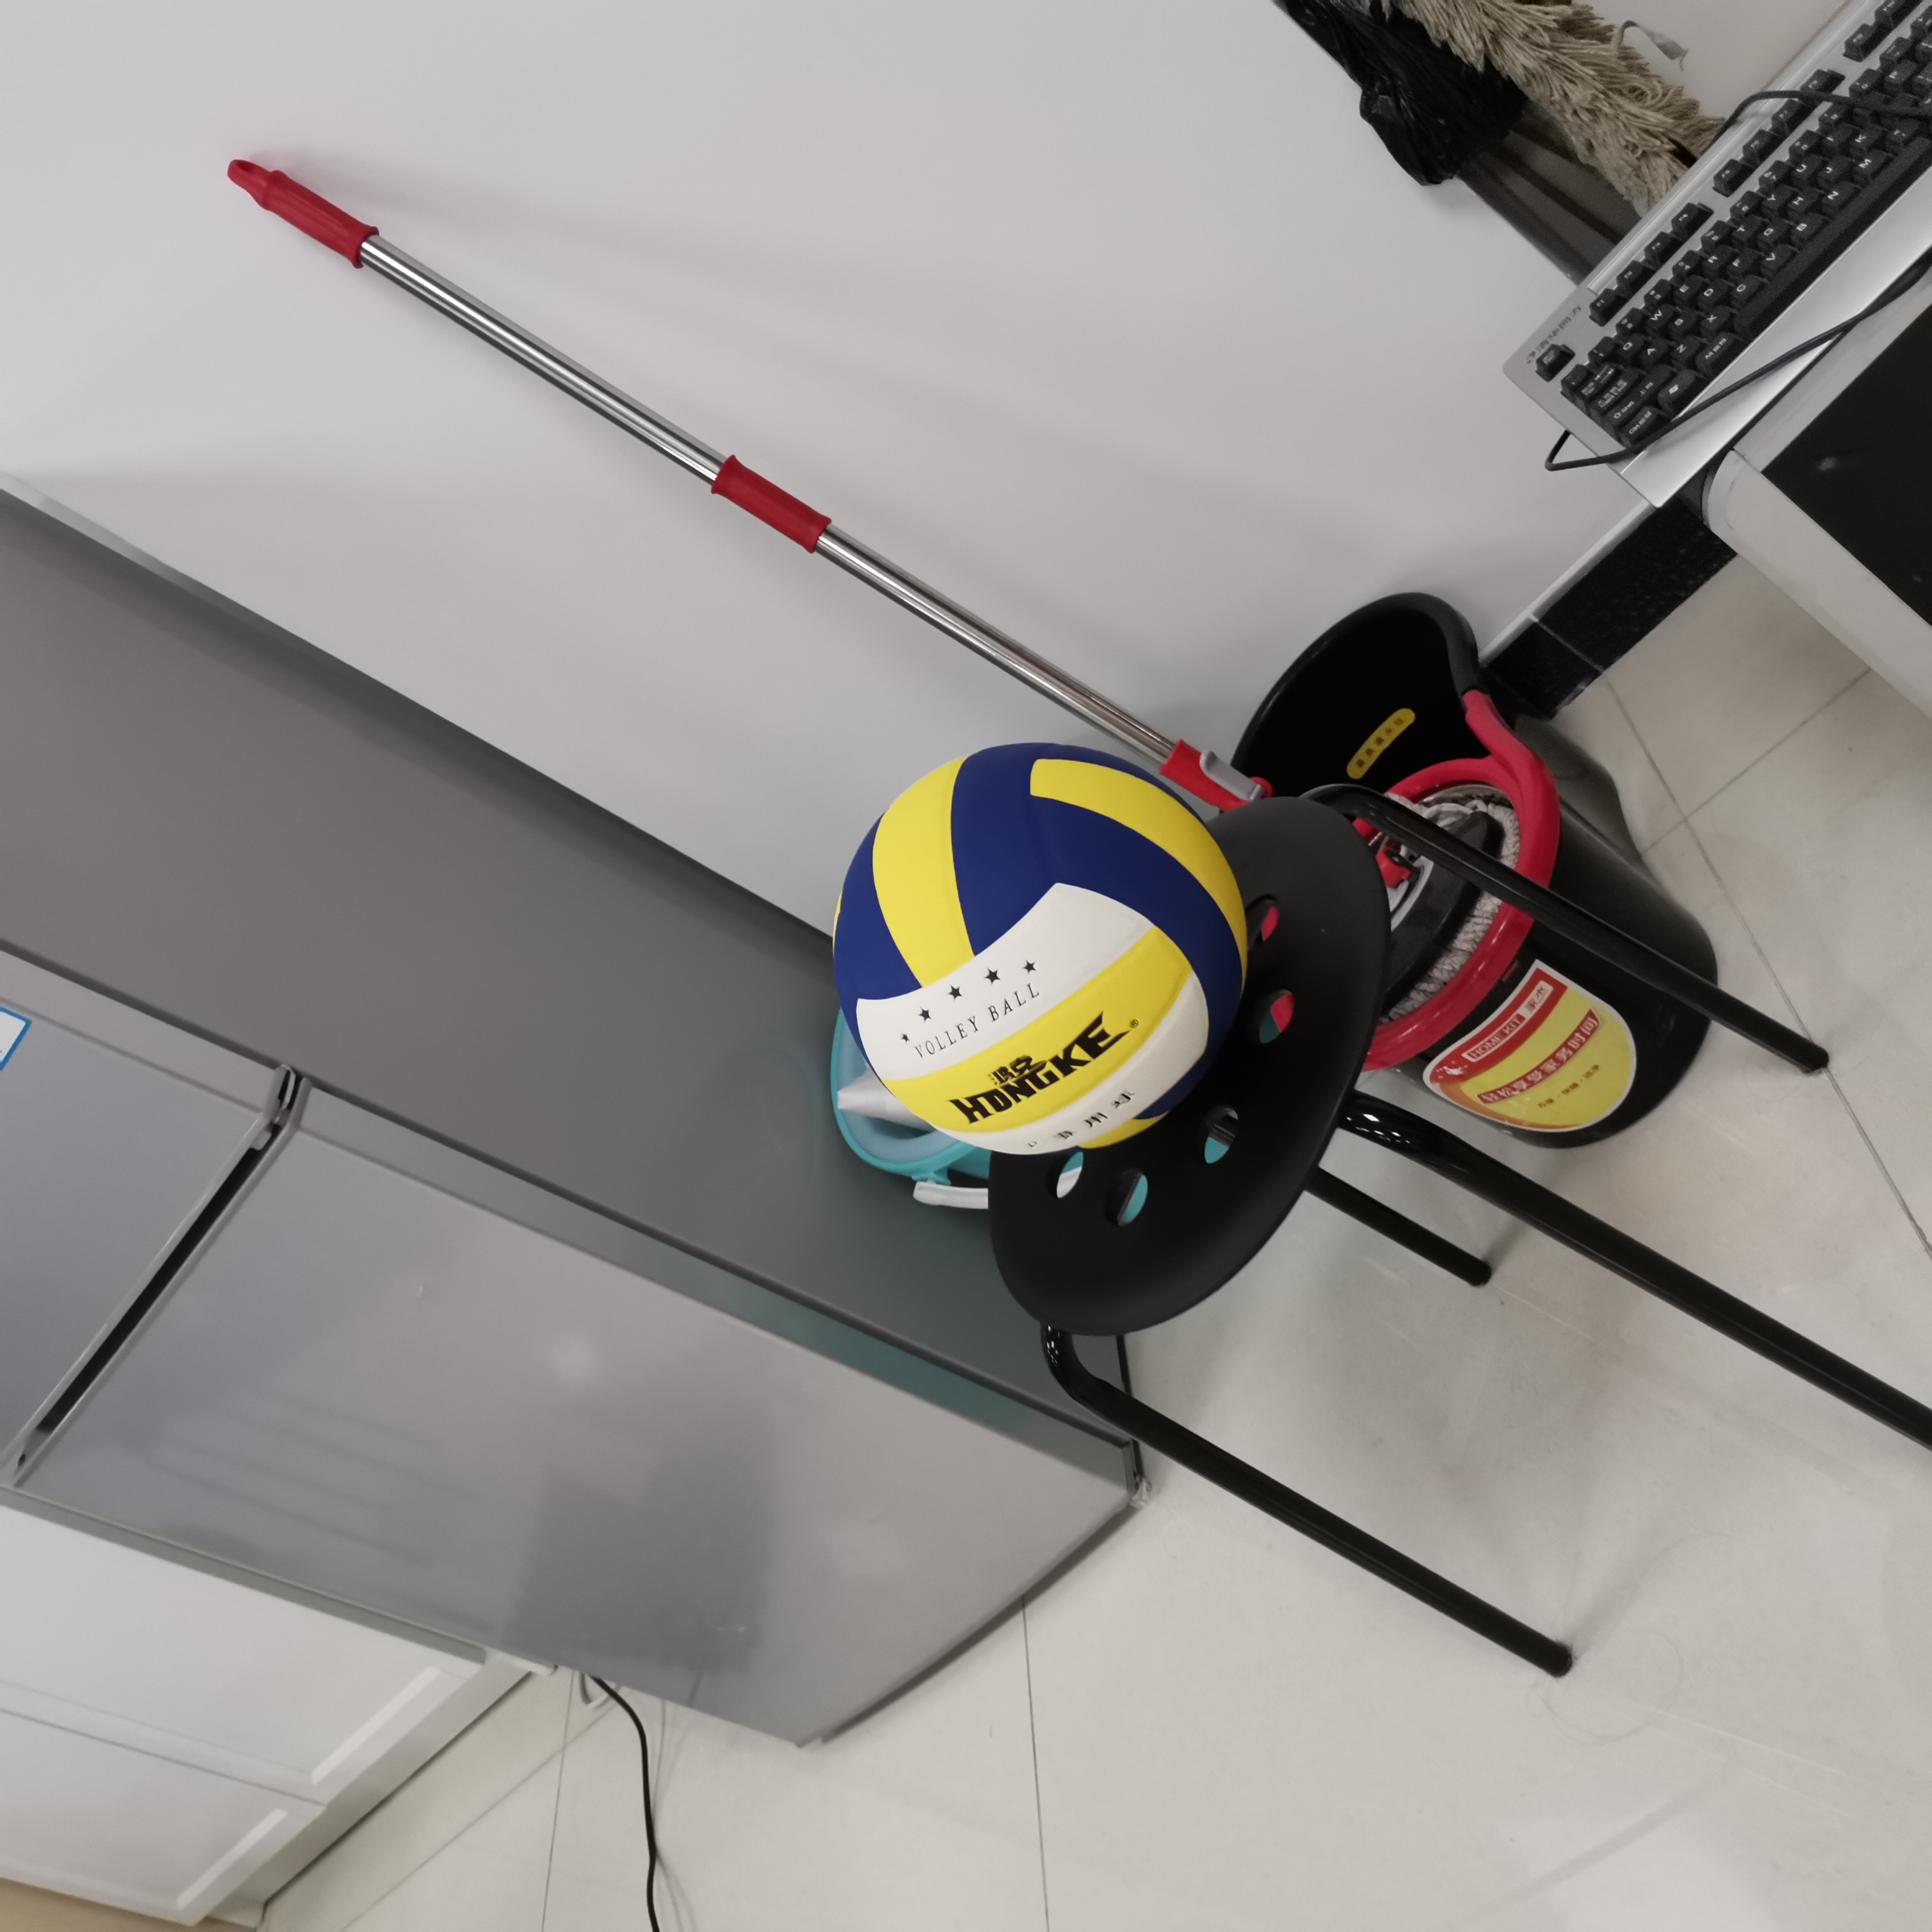volleyball: (830, 748, 1251, 1154)
